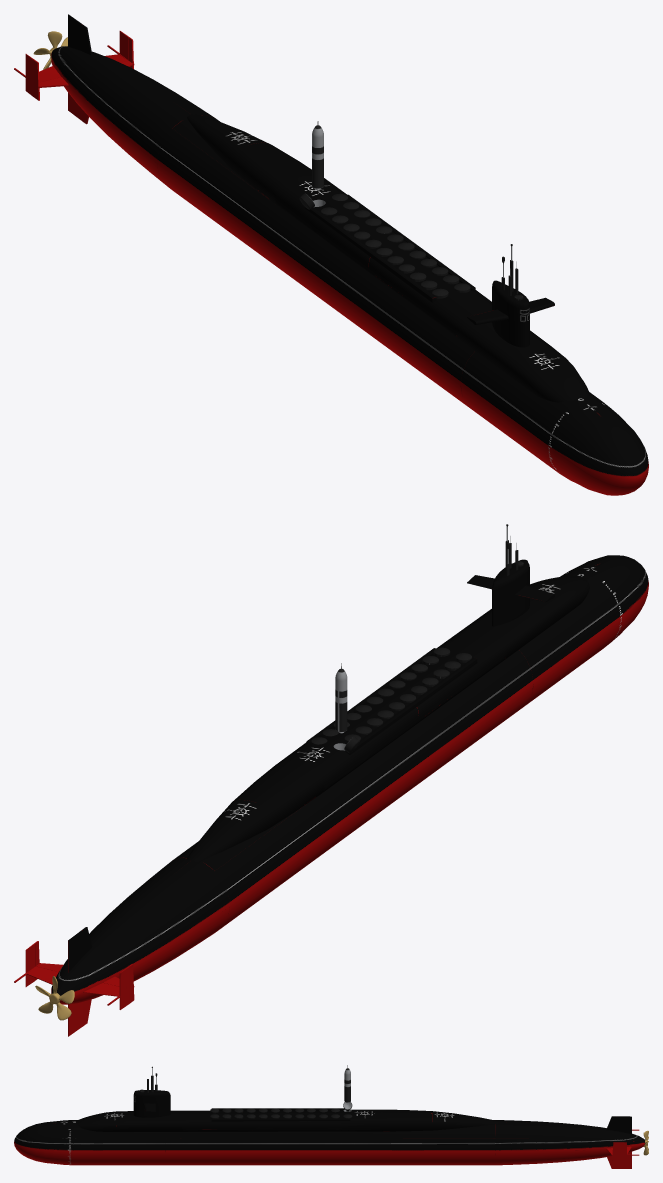
Rendered from ohio class SSBN.gltf.
The picture shows the model from 3 angles, top to bottom: view 1: azimuth 30°, elevation 25°; view 2: azimuth 150°, elevation 25°; view 3: azimuth 270°, elevation 25°; orthographic projection. The views are drawn at different scales.
Parts seen in each view (by area): view 1: submarine, polySurface1, tower, pCube231, left_silos_covers, right_silos_covers, trident_missile; view 2: submarine, polySurface1, tower, pCube231, right_silos_covers, left_silos_covers, trident_missile, turbine; view 3: submarine, polySurface1, tower, pCube231, left_silos_covers, right_silos_covers, pCube240, trident_missile, pCube248.
Boxes of the visible parts, x1,y1,x2,y2 form: submarine: (51,46,648,495); polySurface1: (187,114,589,402); tower: (492,280,529,347); pCube231: (304,194,475,302); left_silos_covers: (332,193,470,292); right_silos_covers: (321,207,448,298); trident_missile: (312,125,323,188); submarine: (51,555,648,1004); polySurface1: (187,576,589,861); tower: (492,559,529,626); pCube231: (306,648,477,754); right_silos_covers: (344,653,471,741); left_silos_covers: (311,647,450,744); trident_missile: (335,669,347,731); turbine: (35,976,74,1020); submarine: (14,1120,644,1165); polySurface1: (76,1109,498,1131); tower: (133,1090,170,1117); pCube231: (211,1108,350,1121); left_silos_covers: (210,1114,352,1118); right_silos_covers: (210,1108,339,1113); pCube240: (616,1116,631,1133); trident_missile: (344,1068,350,1102); pCube248: (617,1142,626,1162).
Bounding box in the file's own units: 0.1295 × 0.2443 × 1.37.
2 materials, 2 textured.
